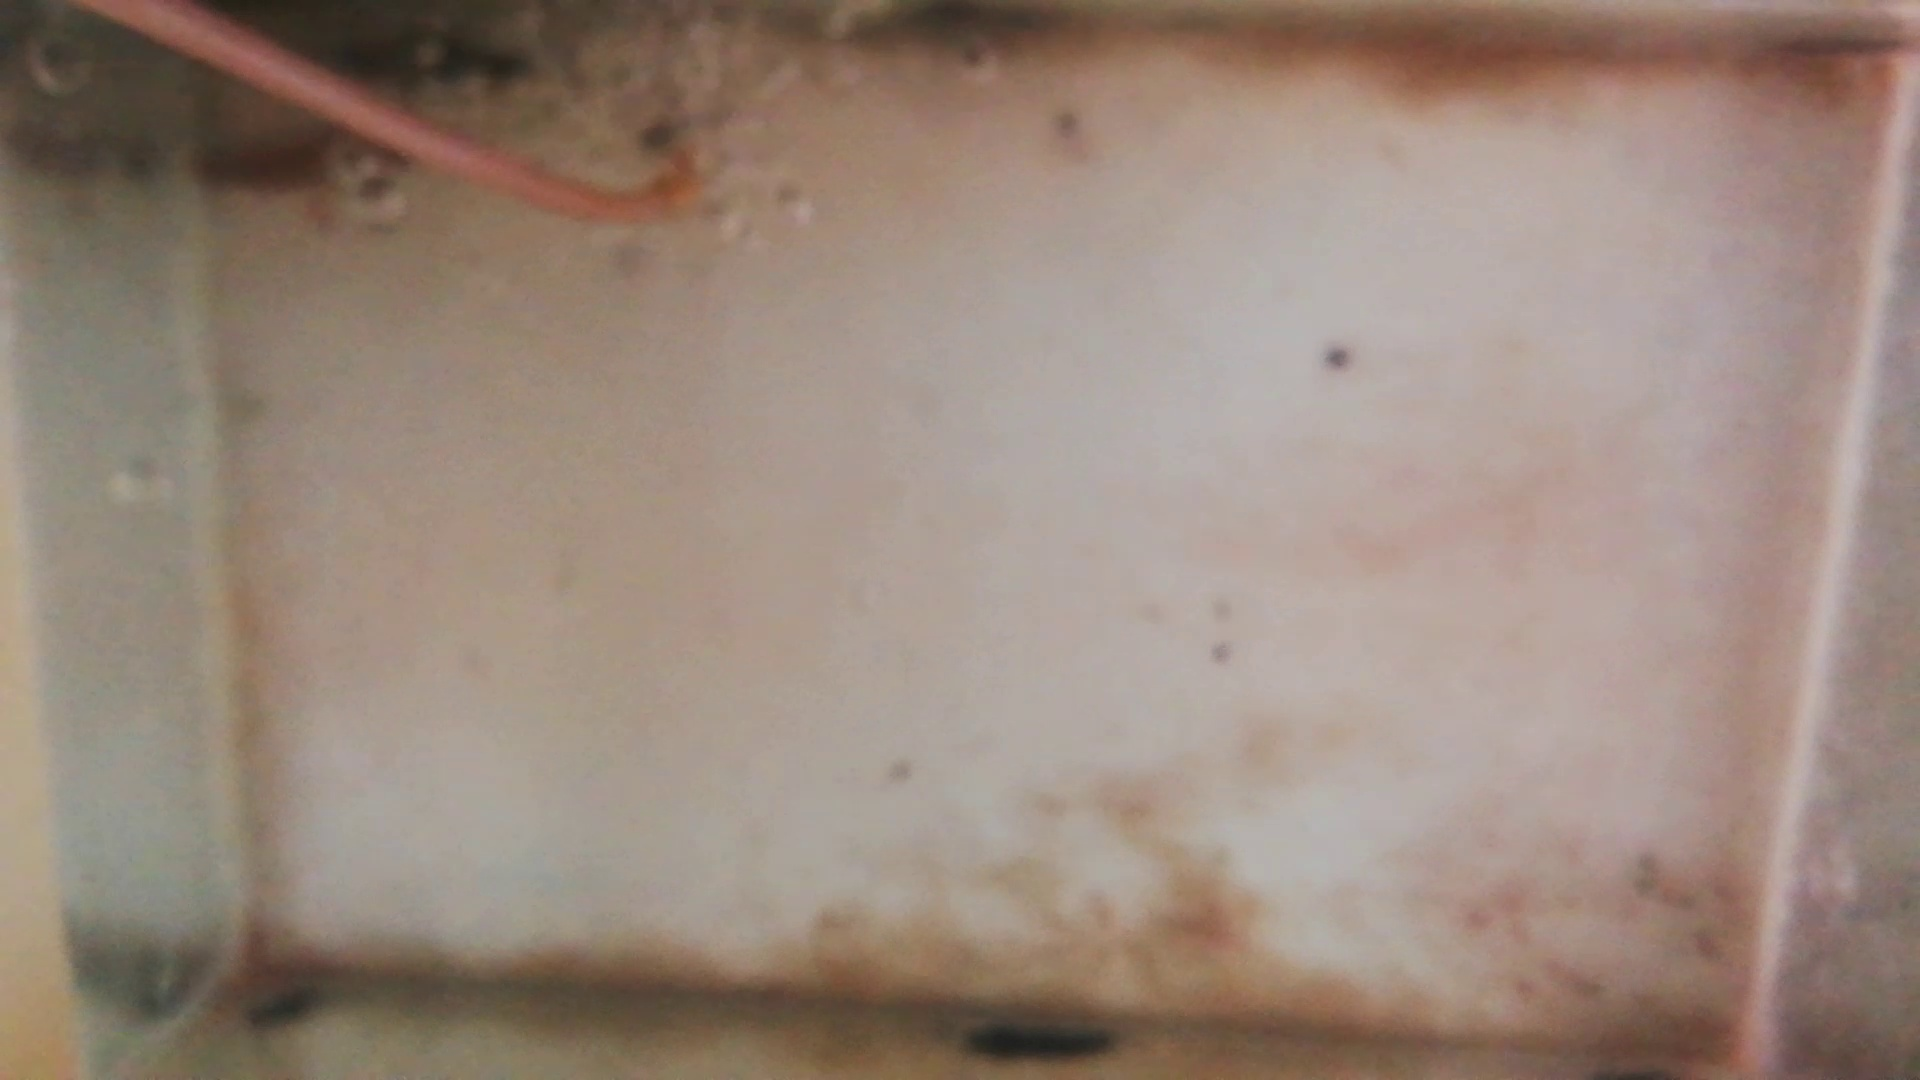fish: (183, 141, 400, 200), (352, 47, 527, 98)
